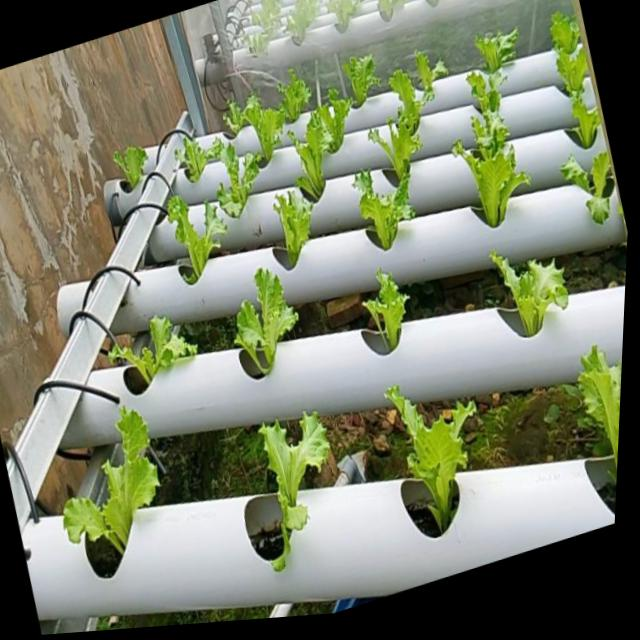Baby: (58, 403, 156, 551), (383, 382, 473, 530), (256, 410, 327, 568), (576, 344, 622, 493), (231, 263, 295, 370), (488, 249, 565, 335), (365, 87, 431, 185), (100, 309, 193, 378), (284, 103, 341, 201), (164, 191, 224, 281), (336, 48, 398, 133), (459, 146, 522, 227), (221, 92, 282, 161), (557, 151, 611, 223), (209, 139, 258, 216), (468, 85, 512, 168), (361, 266, 406, 347), (353, 170, 399, 248), (270, 188, 310, 265), (549, 20, 587, 97), (404, 50, 449, 105), (171, 130, 219, 181), (274, 67, 309, 123), (473, 30, 516, 74), (108, 140, 145, 181)
